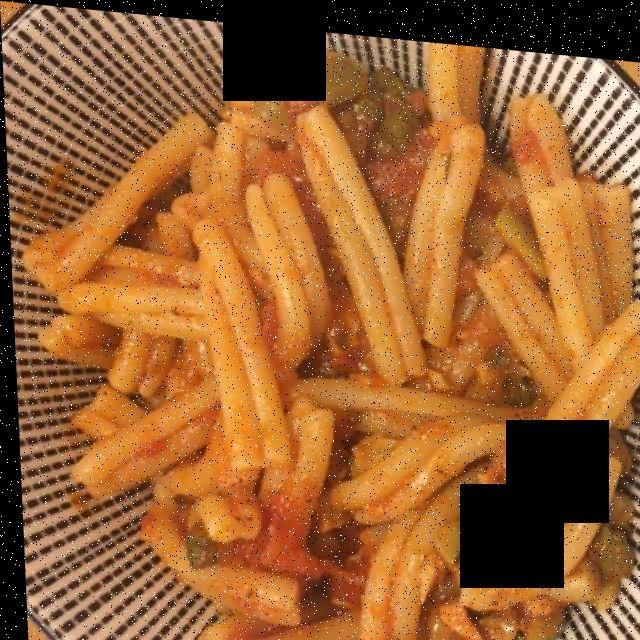capers: (181, 358, 526, 562)
green-olives: (253, 39, 629, 565)
pasta: (36, 43, 640, 640)
